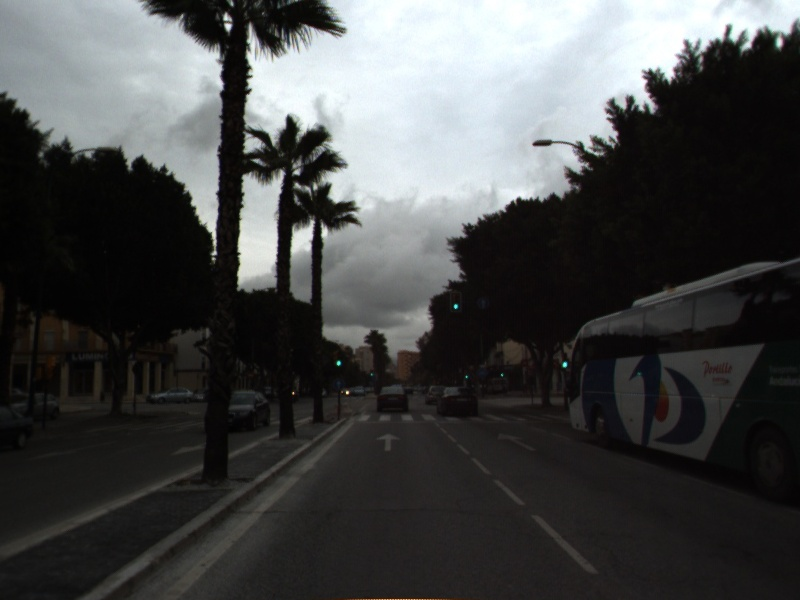STRAIGHT: (495, 430, 539, 453), (373, 431, 404, 453)
